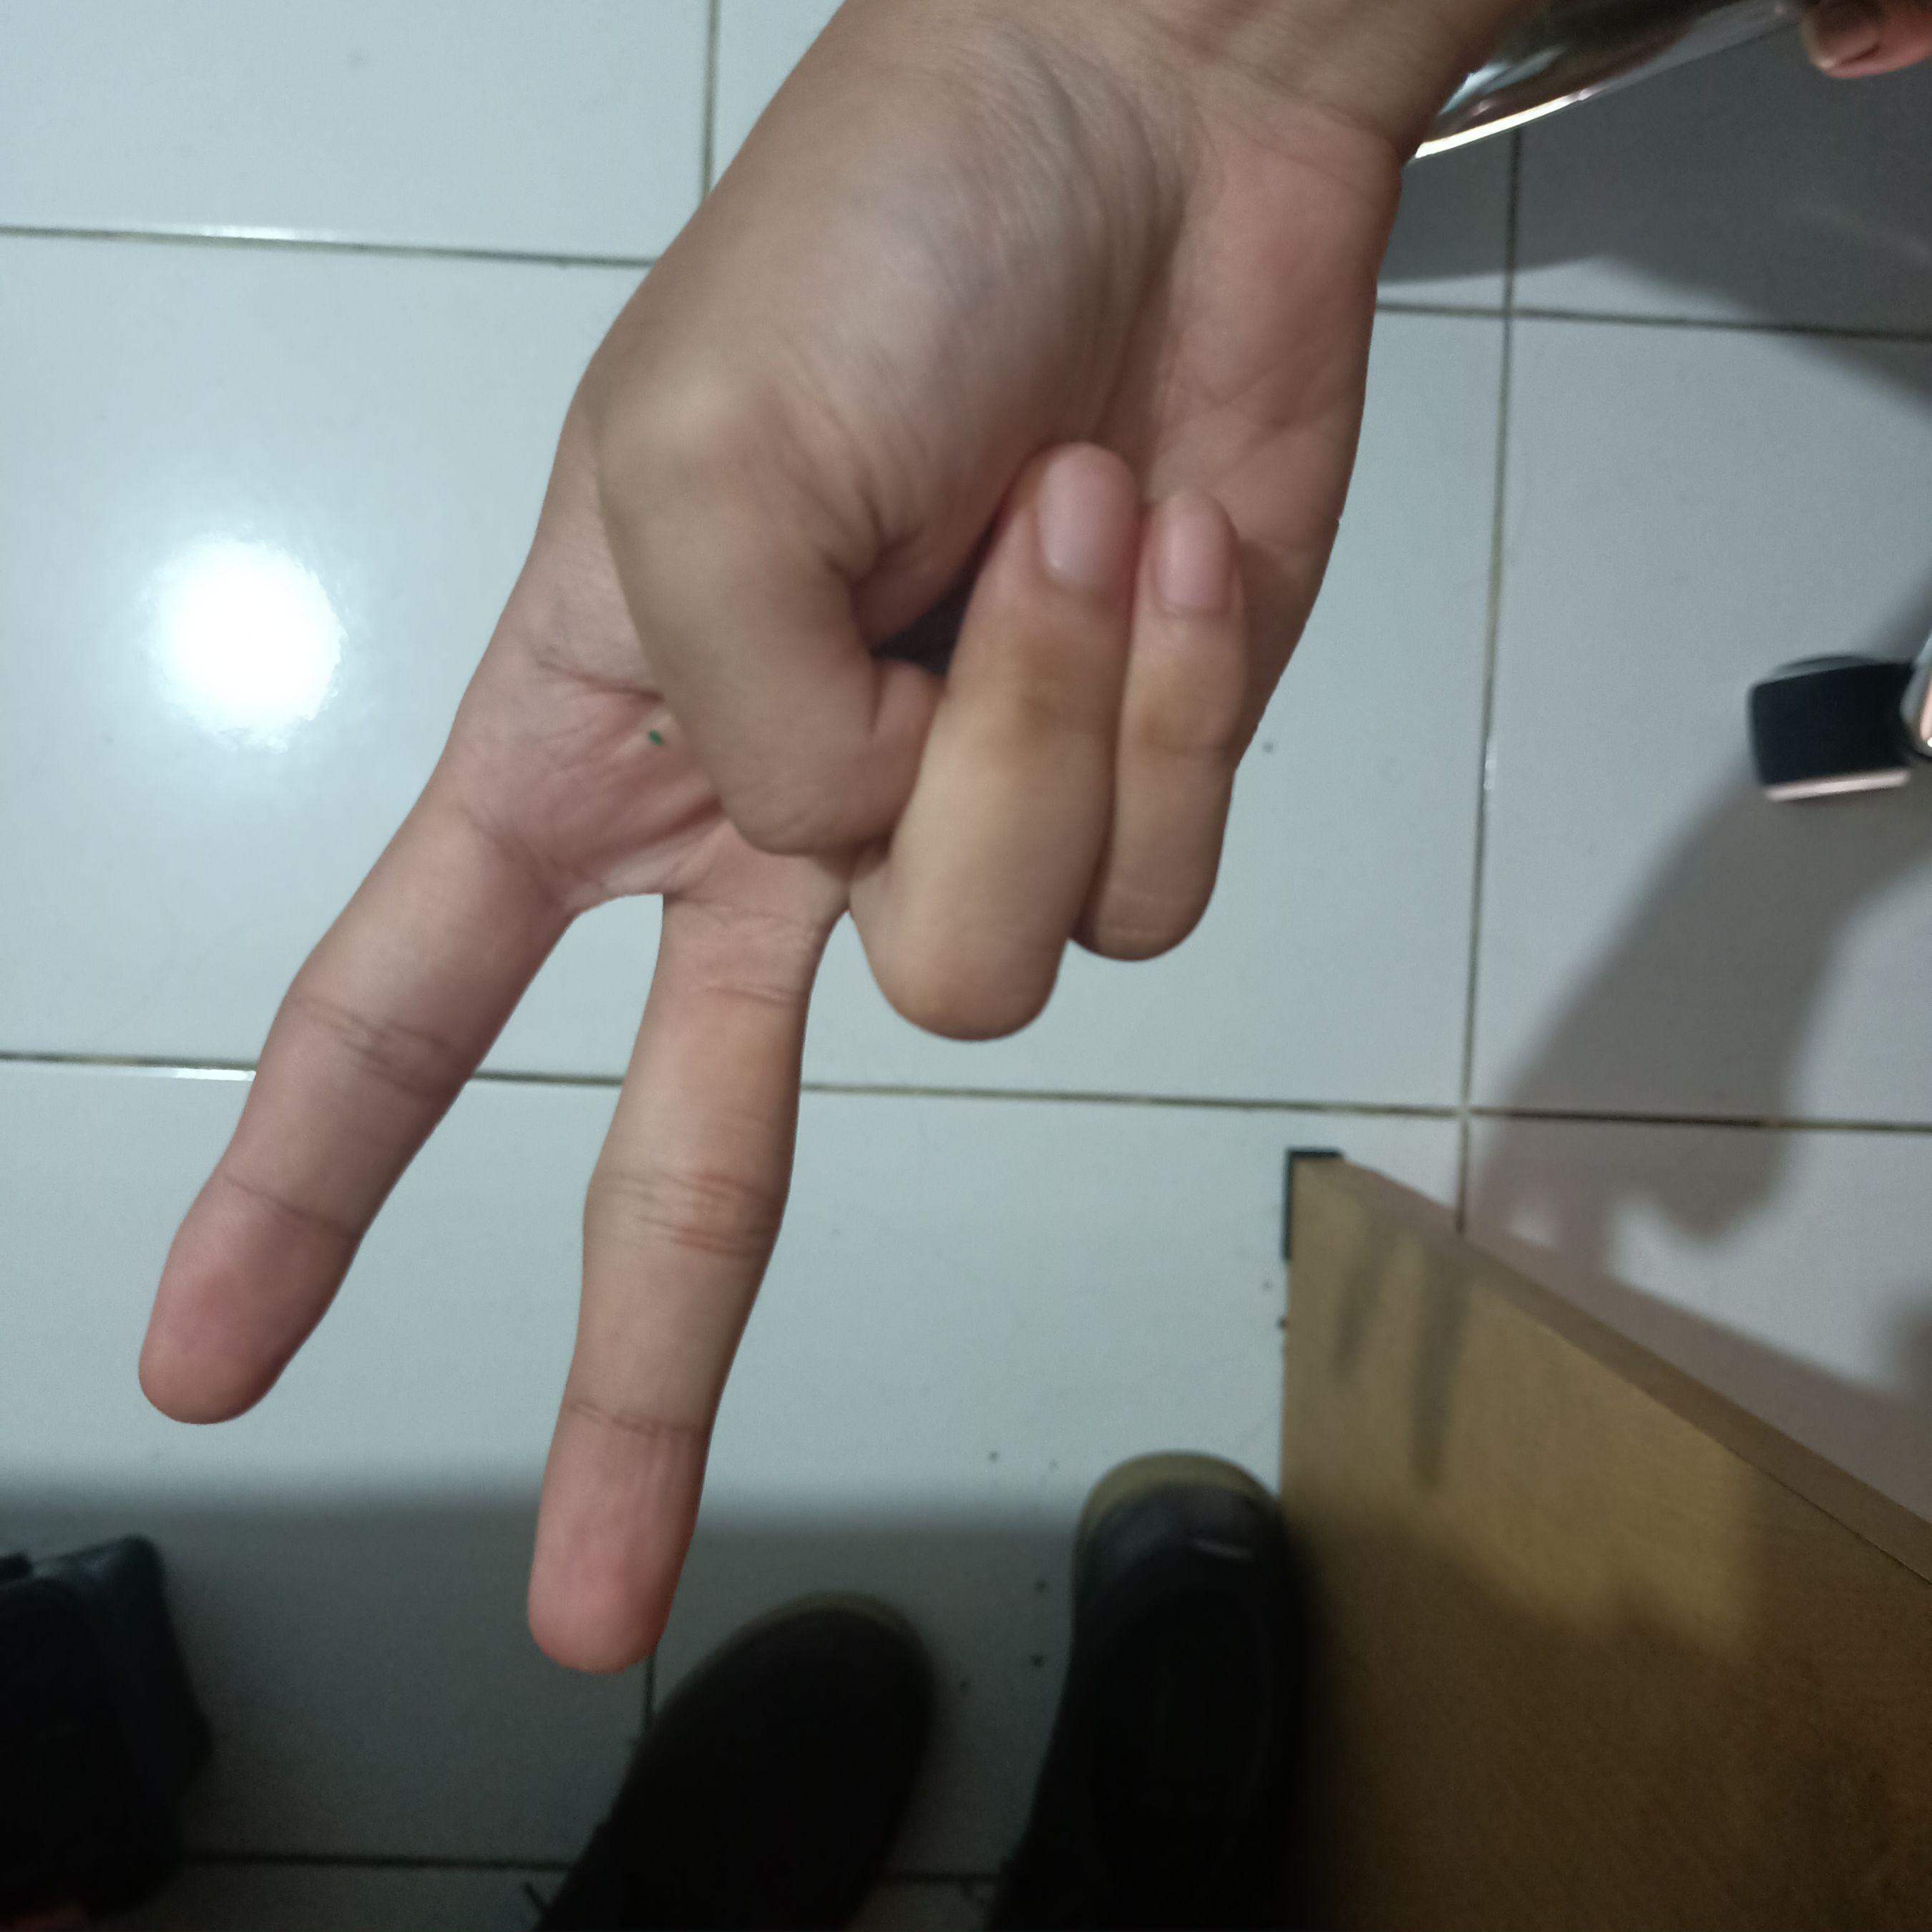scissors: (85, 19, 1414, 1677)
